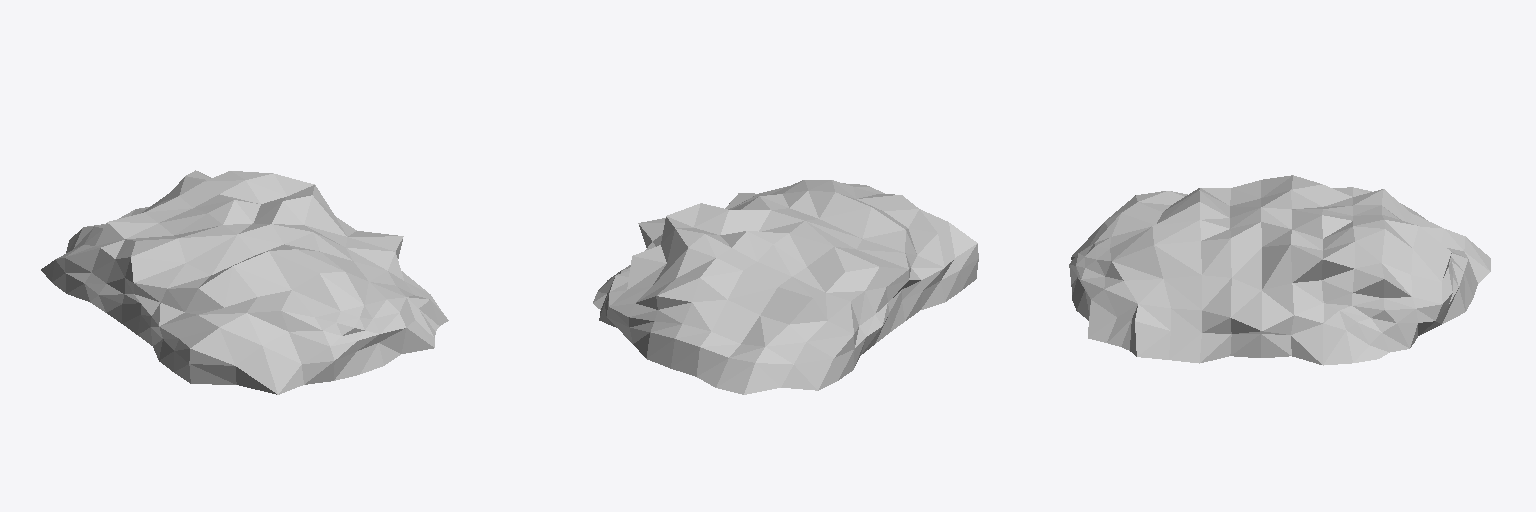
File: ceiling_block.obj
3 renders of one model, left to right at view 1: azimuth 30°, elevation 25°; view 2: azimuth 150°, elevation 25°; view 3: azimuth 270°, elevation 25°, orthographic.
Visible parts, largest first — view 1: ceiling_block_Cube.007; view 2: ceiling_block_Cube.007; view 3: ceiling_block_Cube.007.
Part boxes in pixels (x1,y1,x2,y2): ceiling_block_Cube.007: (41,170,448,394); ceiling_block_Cube.007: (593,180,978,394); ceiling_block_Cube.007: (1069,175,1490,365).
Size of the model in its own units: 1.75 by 0.512 by 2.3.